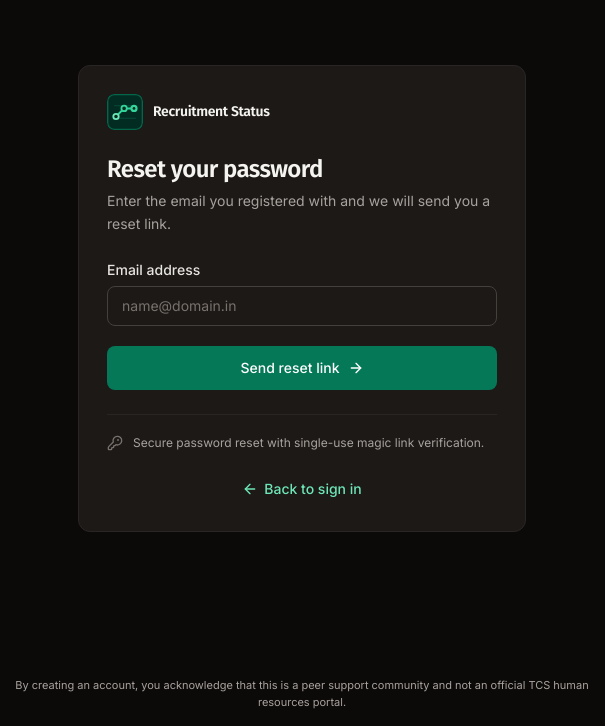
Test: ForgotPasswordPage › posts the typed email to the reset endpoint
The width and height of the screenshot is (605, 726).
In the field labelled "Email address": (302, 306) [107, 286, 497, 326], type "cand@example.com"
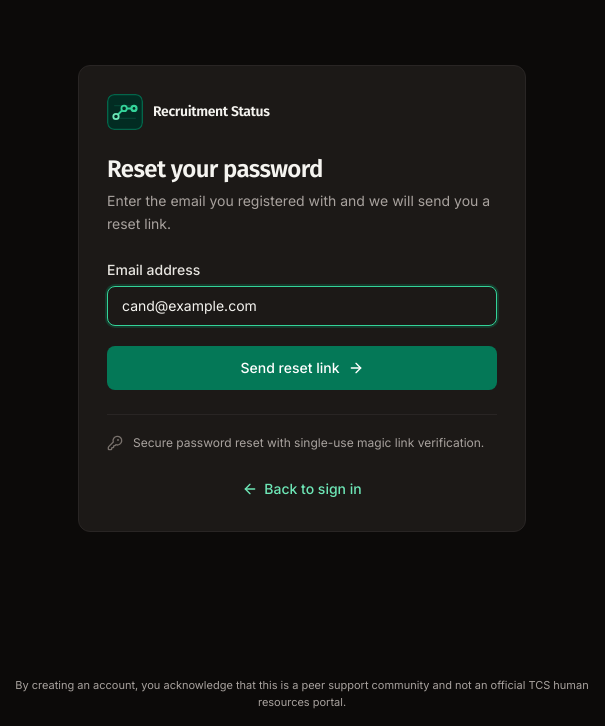
Click the button "Send reset link": click(302, 368) [107, 346, 497, 390]
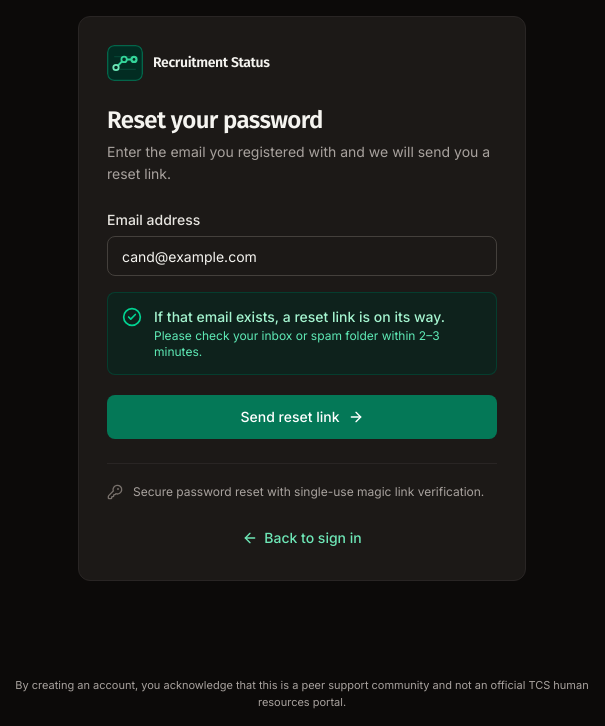
Now the message shows "If that email exists, a reset link is on its way.", box [154, 308, 445, 325]
